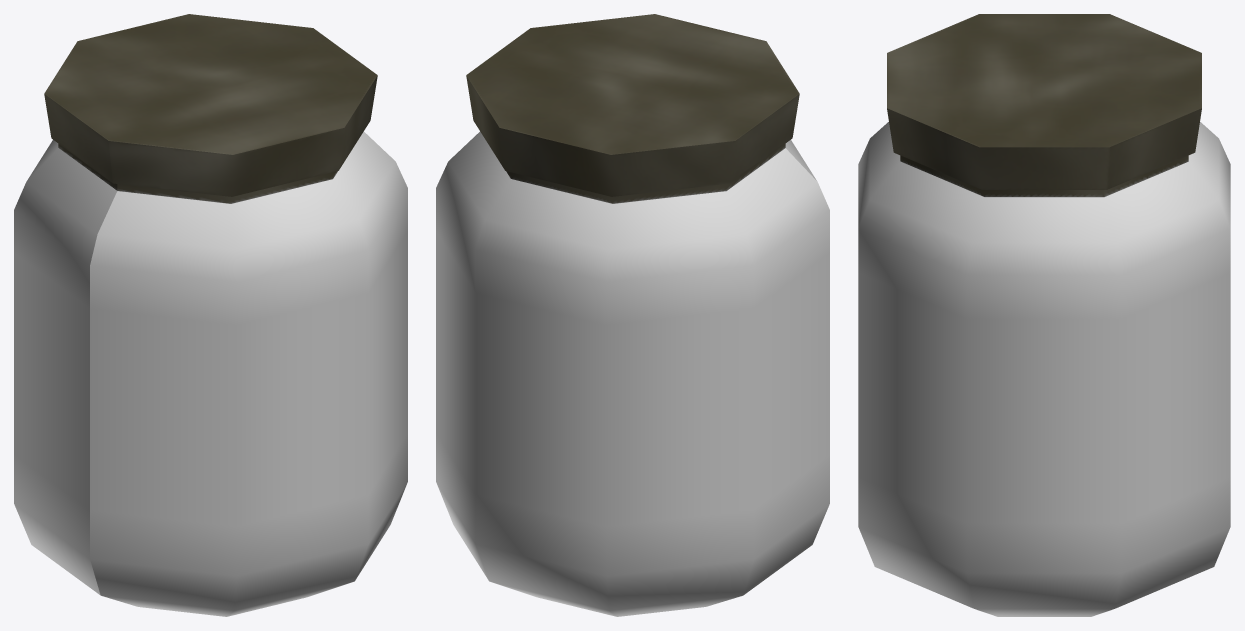
The model's file is EmptyJar.fbx.
3 renders of one model, left to right at view 1: azimuth 30°, elevation 25°; view 2: azimuth 150°, elevation 25°; view 3: azimuth 270°, elevation 25°, orthographic.
Parts seen in each view (by area): view 1: EmptyJarGlass, EmptyJar; view 2: EmptyJarGlass, EmptyJar; view 3: EmptyJarGlass, EmptyJar.
Part boxes in pixels (box(x1,y1,x2,y2)): EmptyJarGlass: box(14, 131, 407, 616); EmptyJar: box(44, 14, 377, 203); EmptyJarGlass: box(436, 131, 829, 616); EmptyJar: box(466, 14, 799, 203); EmptyJarGlass: box(858, 122, 1230, 616); EmptyJar: box(887, 14, 1201, 196).
Size of the model in its own units: 231 by 335 by 231.
